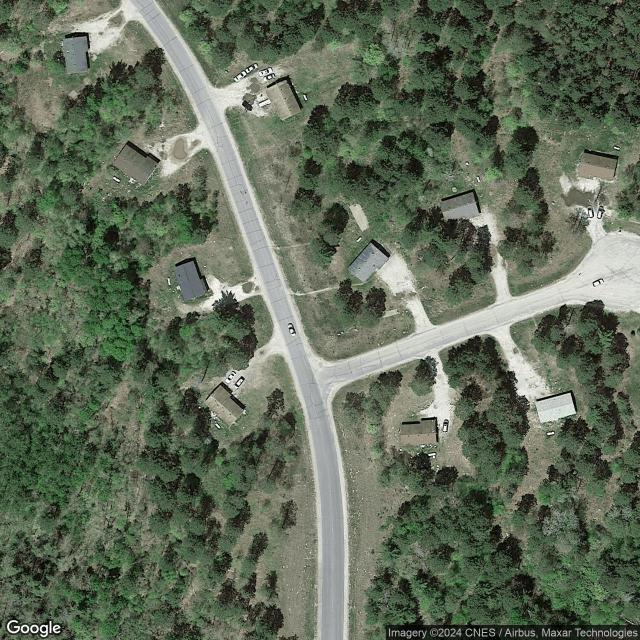Propane: (214, 421, 223, 431), (354, 235, 363, 244), (112, 175, 122, 183), (612, 144, 622, 151), (302, 92, 309, 102), (546, 430, 556, 436), (475, 175, 482, 183), (427, 452, 437, 457), (167, 276, 171, 287)
